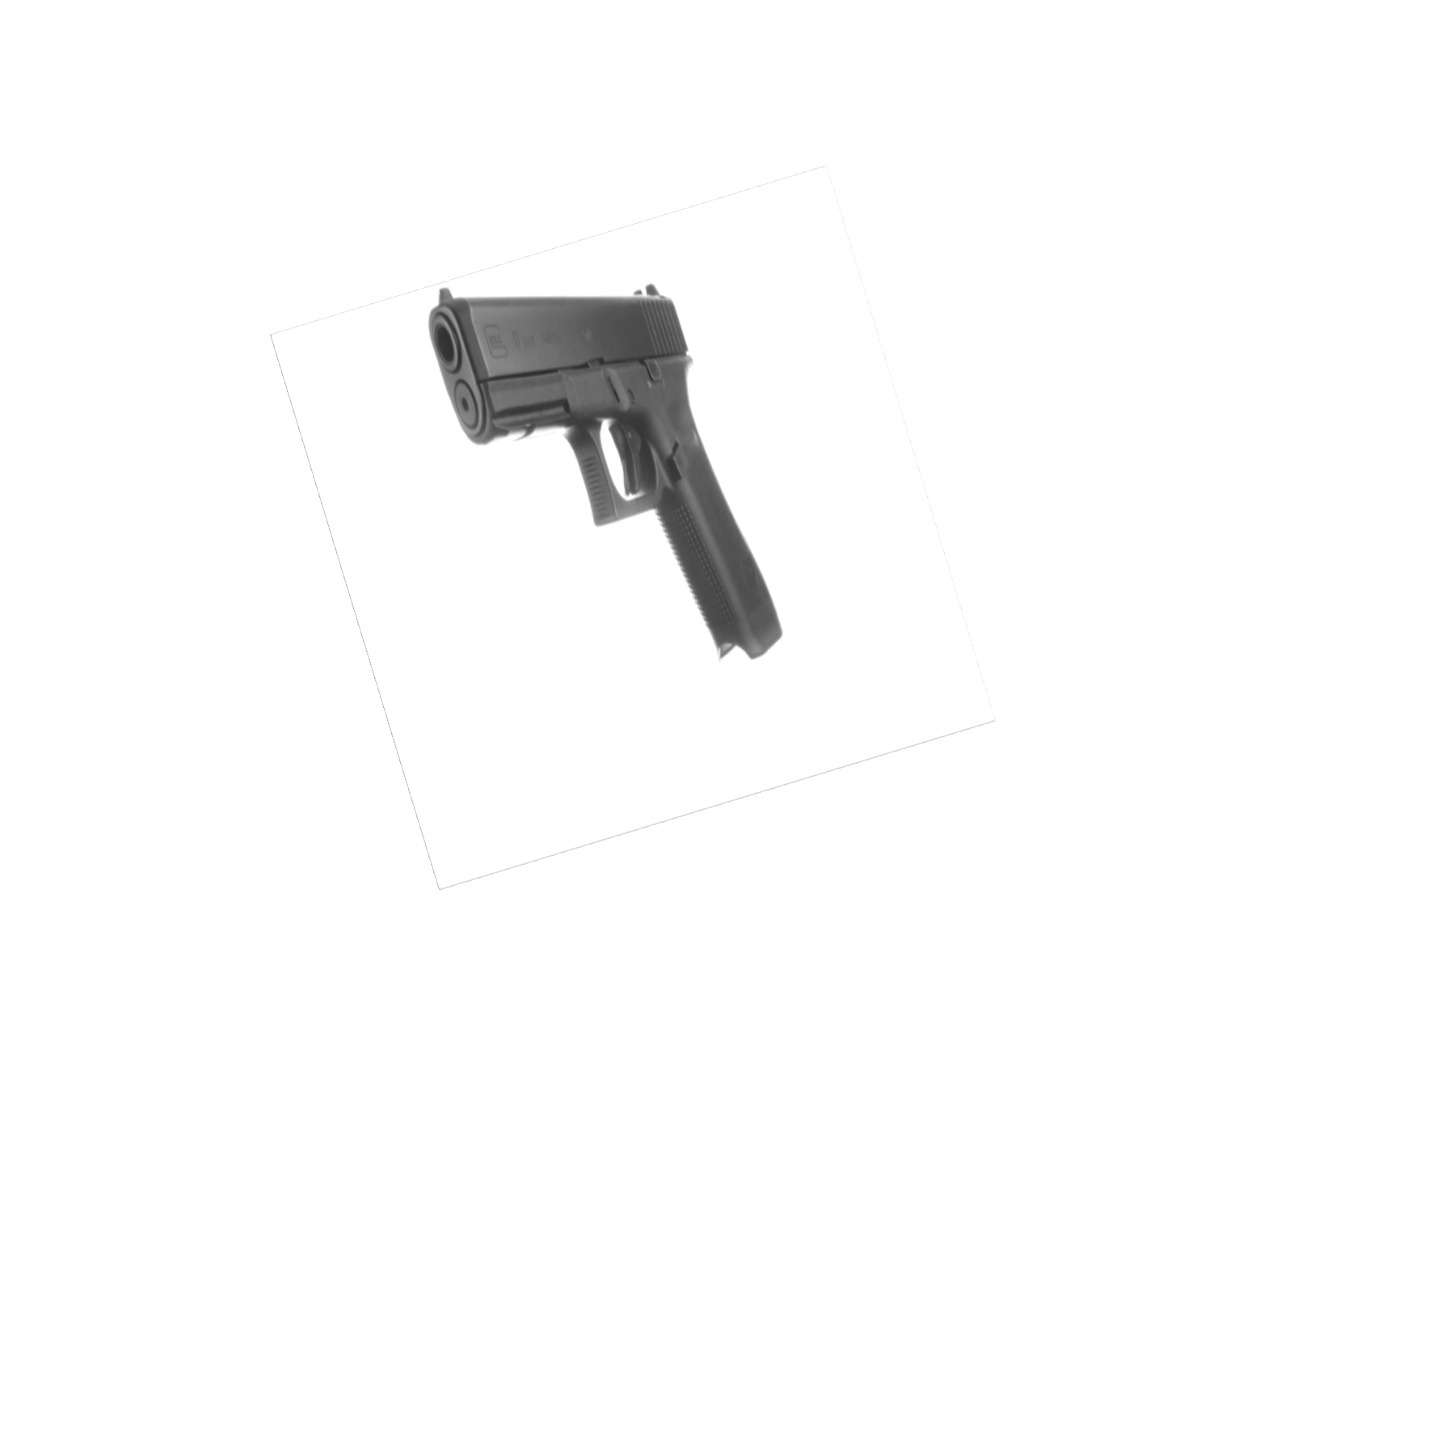gun: (411, 269, 805, 686)
